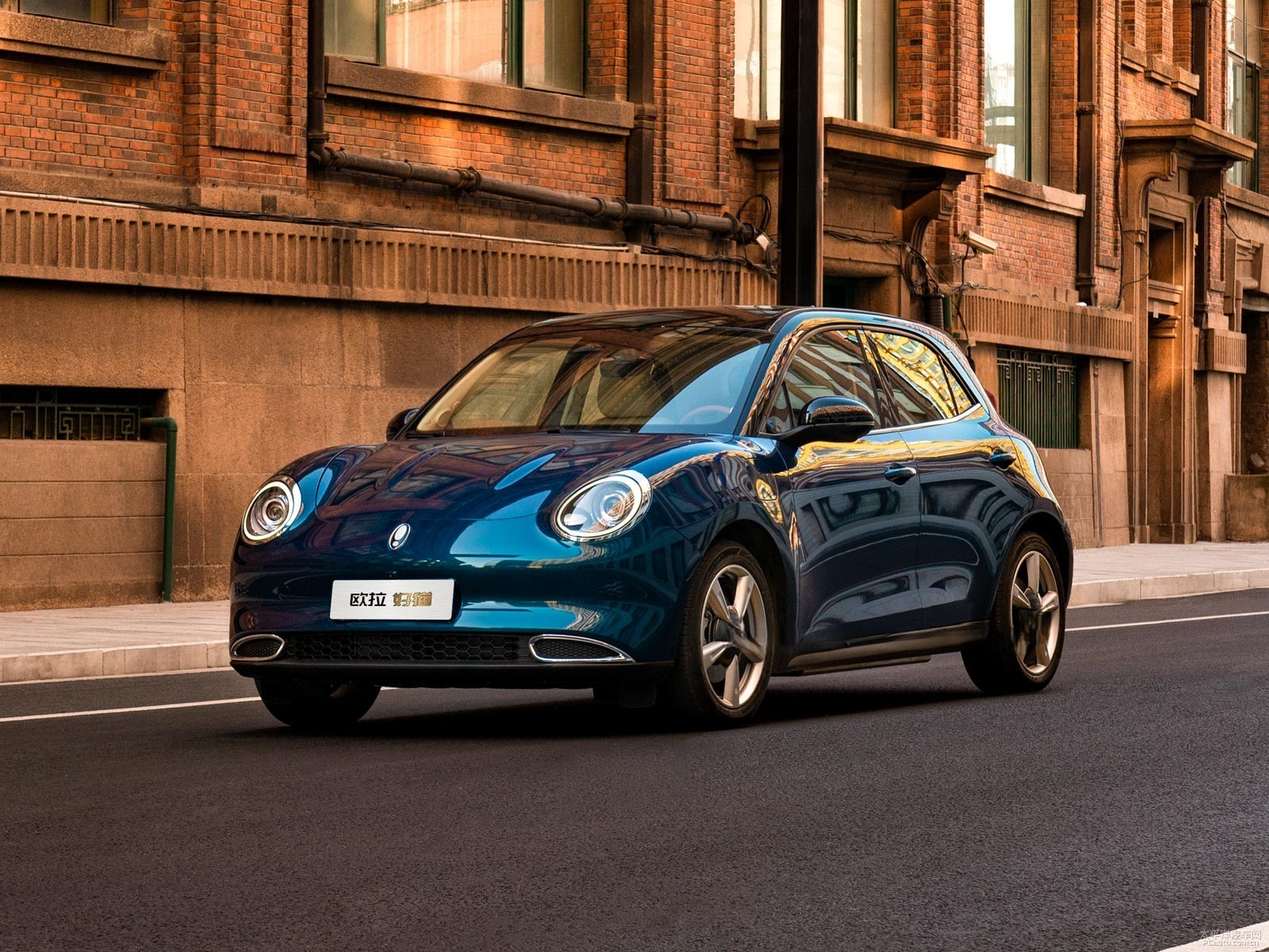ORA: (389, 524, 410, 549)
